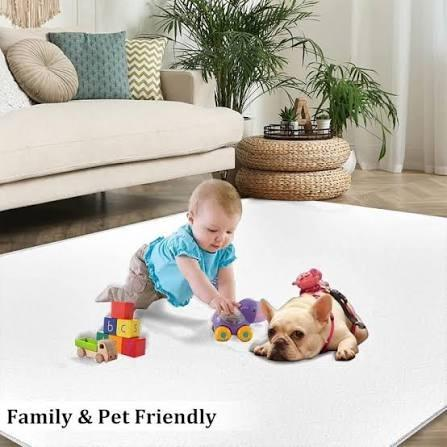adult_dog: (253, 291, 358, 363)
non-dog: (95, 181, 244, 321)
